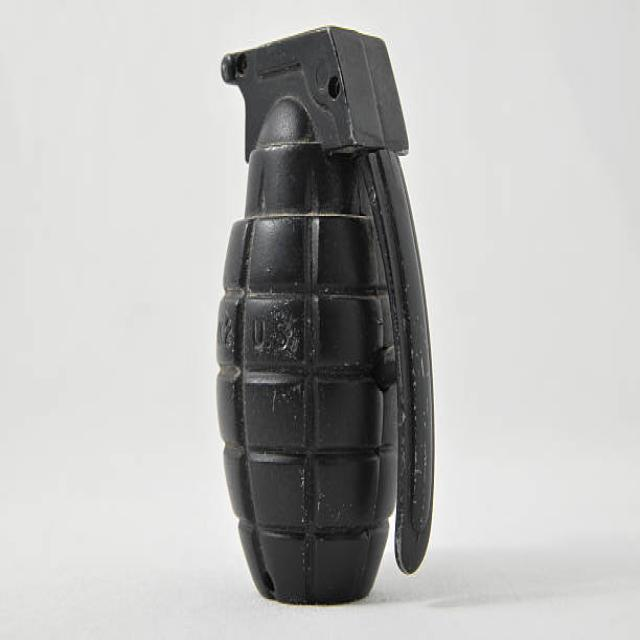grenade: (205, 20, 450, 613)
